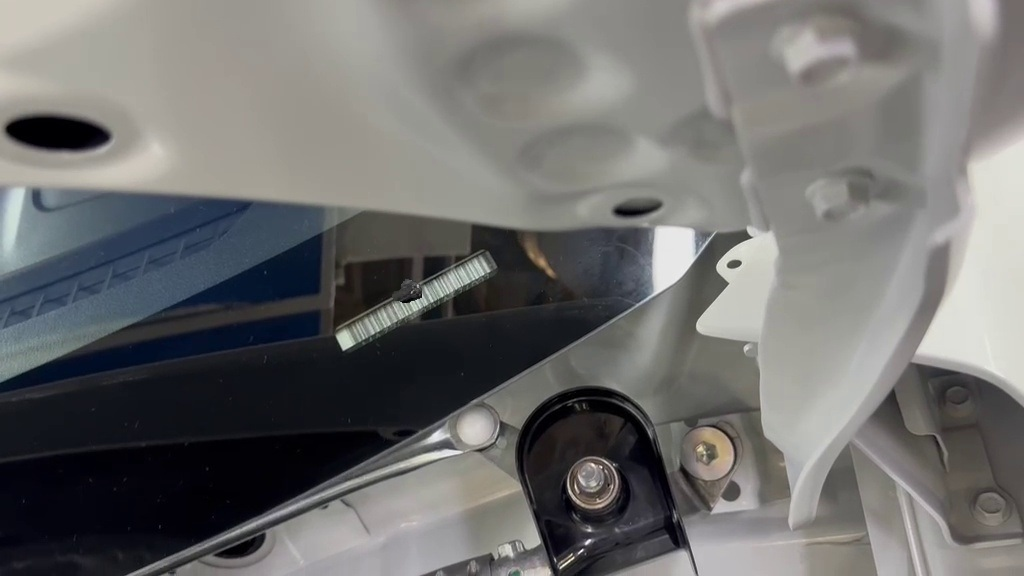barcode: (485, 377, 727, 576)
hinge: (310, 236, 517, 370)
